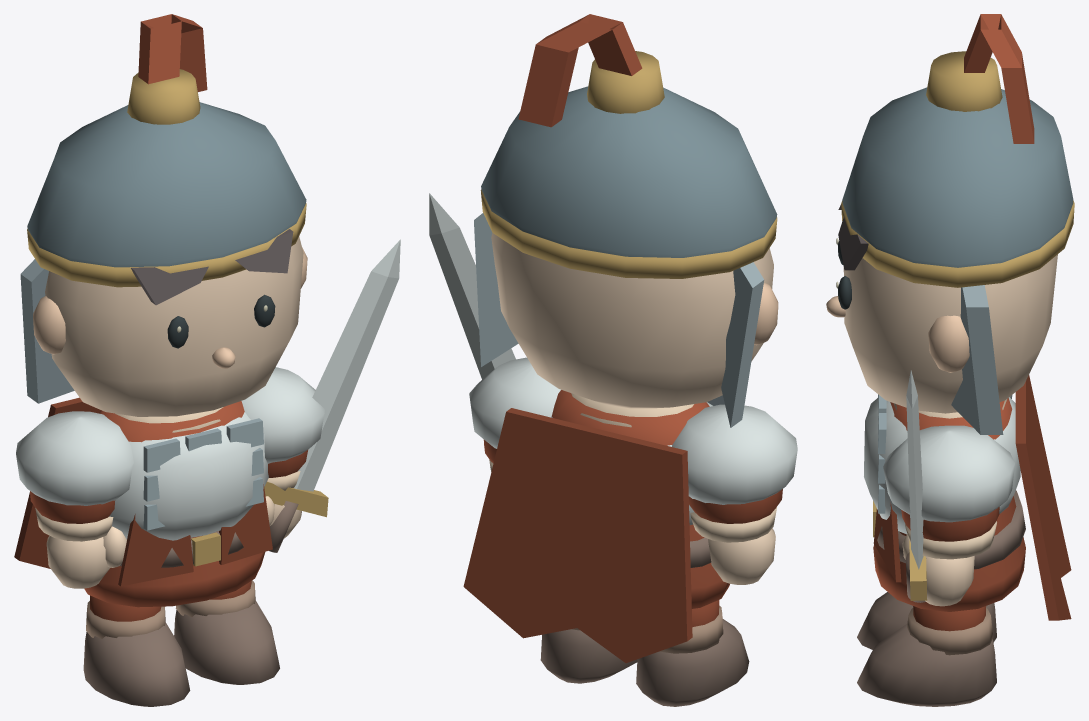
Rendered from knight.glb.
3 views of the same model, side by side, from view 1: azimuth 30°, elevation 25°; view 2: azimuth 150°, elevation 25°; view 3: azimuth 270°, elevation 25° (orthographic). The views are drawn at different scales.
Parts seen in each view (by area): view 1: Regional helmet, Soft cheek head, Rounded breastplate, Big shoulder armour, Short folded tunic, Shaped bevel sword, Round leather boot, Round leather boot.001, Big shoulder armour.001, Red silk tassel, Helmet brow band, Han side guard (+21 smaller); view 2: Short scalloped cape, Regional helmet, Soft cheek head, Big shoulder armour, Red silk tassel, Helmet brow band, Round leather boot, Short folded tunic, Big shoulder armour.001, Shaped bevel sword, Han side guard, Han side guard.001 (+8 smaller); view 3: Regional helmet, Soft cheek head, Big shoulder armour.001, Round leather boot.001, Short scalloped cape, Short folded tunic, Han side guard.001, Helmet brow band, Red silk tassel, Rounded breastplate, Top knot socket, Shaped bevel sword (+11 smaller).
Boxes of the visible parts, x1=… form: Regional helmet: x1=27, y1=102, x2=306, y2=267; Soft cheek head: x1=45, y1=236, x2=303, y2=416; Rounded breastplate: x1=109, y1=412, x2=268, y2=540; Big shoulder armour: x1=16, y1=411, x2=133, y2=505; Short folded tunic: x1=84, y1=401, x2=265, y2=607; Shaped bevel sword: x1=294, y1=239, x2=400, y2=491; Round leather boot: x1=83, y1=622, x2=190, y2=706; Round leather boot.001: x1=174, y1=600, x2=279, y2=684; Big shoulder armour.001: x1=241, y1=367, x2=324, y2=463; Red silk tassel: x1=138, y1=14, x2=207, y2=91; Helmet brow band: x1=27, y1=203, x2=306, y2=287; Han side guard: x1=20, y1=259, x2=74, y2=403; Short scalloped cape: x1=463, y1=408, x2=692, y2=663; Regional helmet: x1=481, y1=86, x2=777, y2=257; Soft cheek head: x1=491, y1=233, x2=773, y2=408; Big shoulder armour: x1=672, y1=404, x2=797, y2=504; Red silk tassel: x1=518, y1=14, x2=642, y2=127; Helmet brow band: x1=480, y1=189, x2=777, y2=278; Round leather boot: x1=636, y1=619, x2=749, y2=706; Short folded tunic: x1=551, y1=390, x2=729, y2=608; Big shoulder armour.001: x1=469, y1=357, x2=560, y2=448; Shaped bevel sword: x1=429, y1=193, x2=515, y2=379; Han side guard: x1=721, y1=262, x2=764, y2=427; Han side guard.001: x1=474, y1=213, x2=518, y2=366; Regional helmet: x1=842, y1=87, x2=1073, y2=267; Soft cheek head: x1=843, y1=254, x2=1057, y2=413; Big shoulder armour.001: x1=883, y1=425, x2=1014, y2=522; Round leather boot.001: x1=857, y1=623, x2=996, y2=706; Short scalloped cape: x1=1015, y1=375, x2=1071, y2=620; Short folded tunic: x1=873, y1=398, x2=1025, y2=611; Han side guard.001: x1=951, y1=285, x2=1003, y2=434; Helmet brow band: x1=841, y1=200, x2=1074, y2=287; Red silk tassel: x1=964, y1=14, x2=1034, y2=143; Rounded breastplate: x1=864, y1=397, x2=1020, y2=534; Top knot socket: x1=926, y1=51, x2=1002, y2=111; Shaped bevel sword: x1=906, y1=370, x2=923, y2=569.
Bounding box in the file's own units: 1.04 × 1.75 × 0.602.
